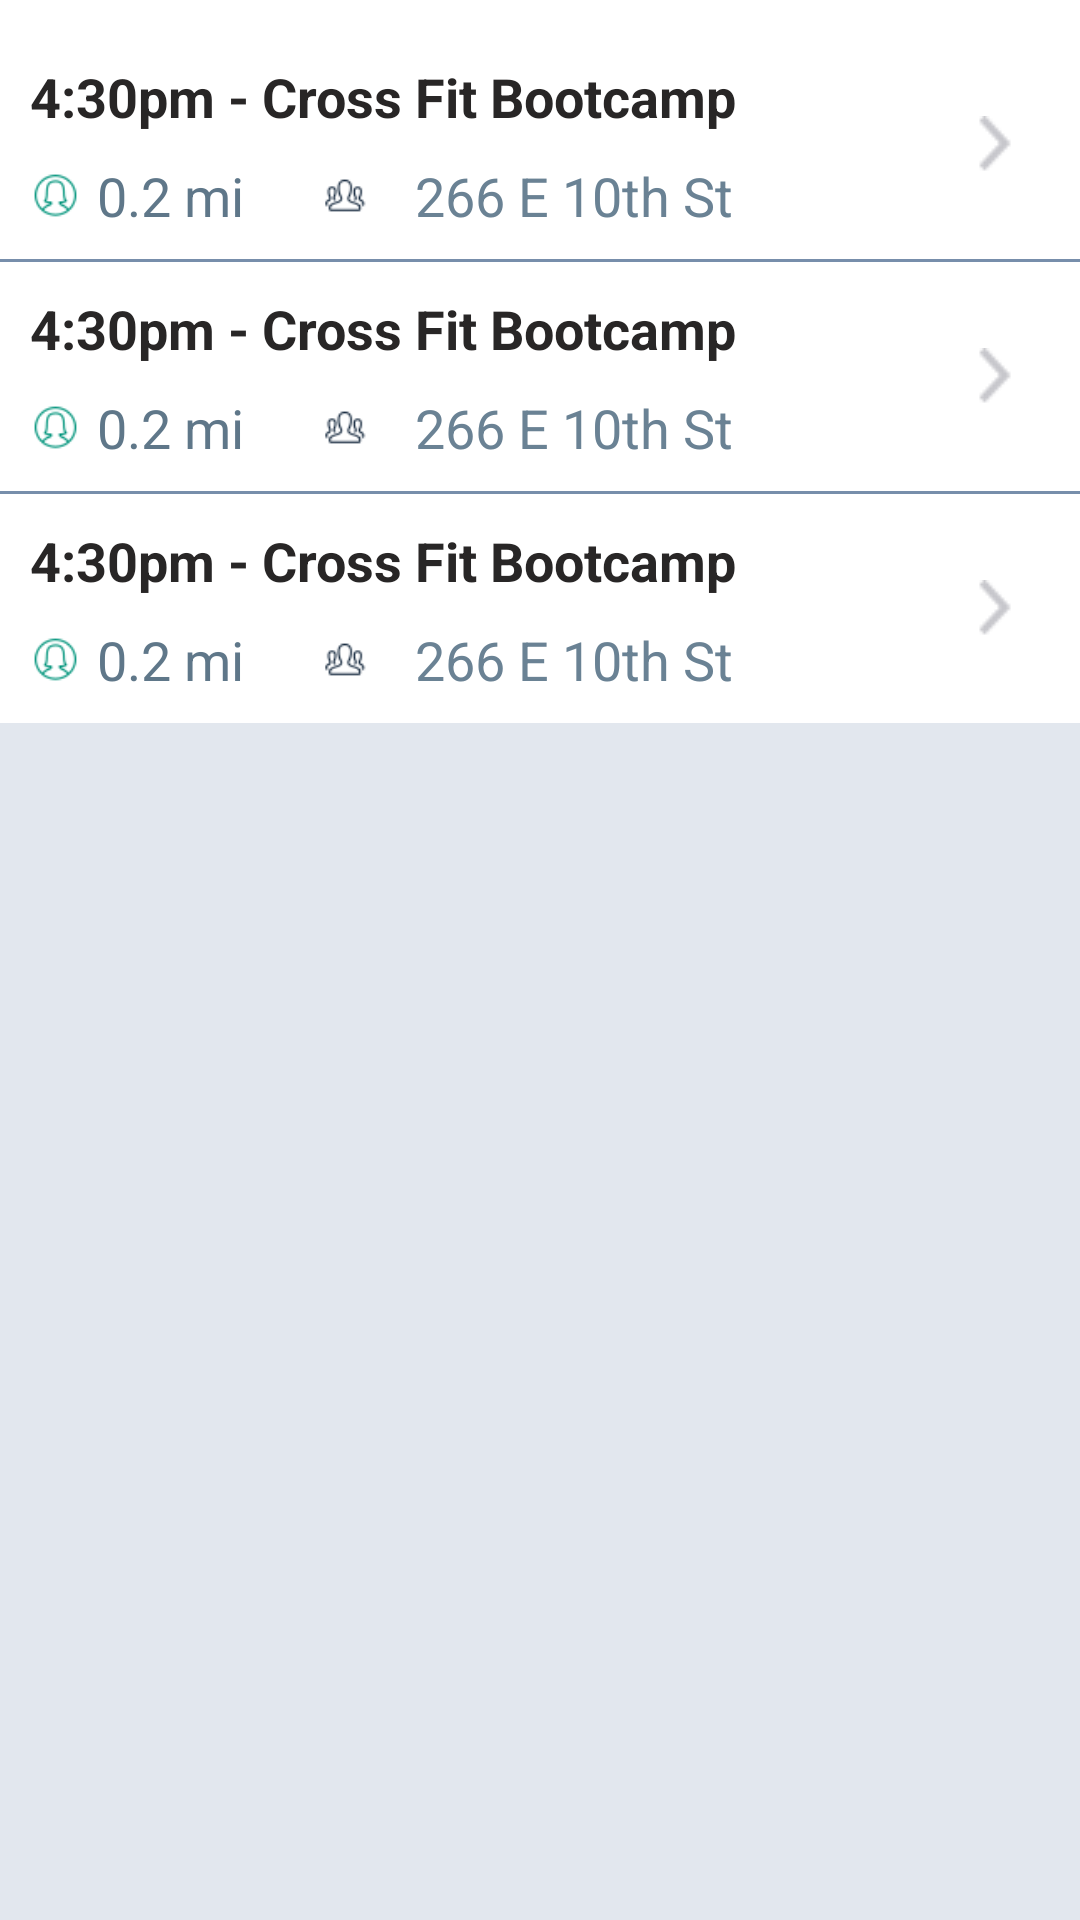

Screen size 1080*1920. Icon name, then its center in pixels as point (x, y):
arrow: point (995, 143), point (995, 375), point (995, 607)
girl: point (55, 195), point (55, 427), point (55, 659)
